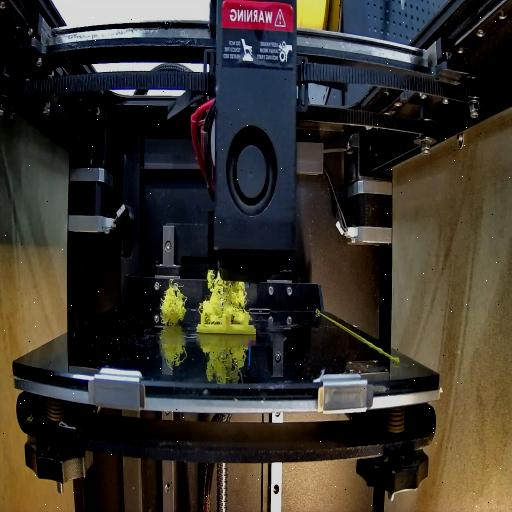spaghetti: (198, 272, 250, 320), (156, 280, 190, 322)
